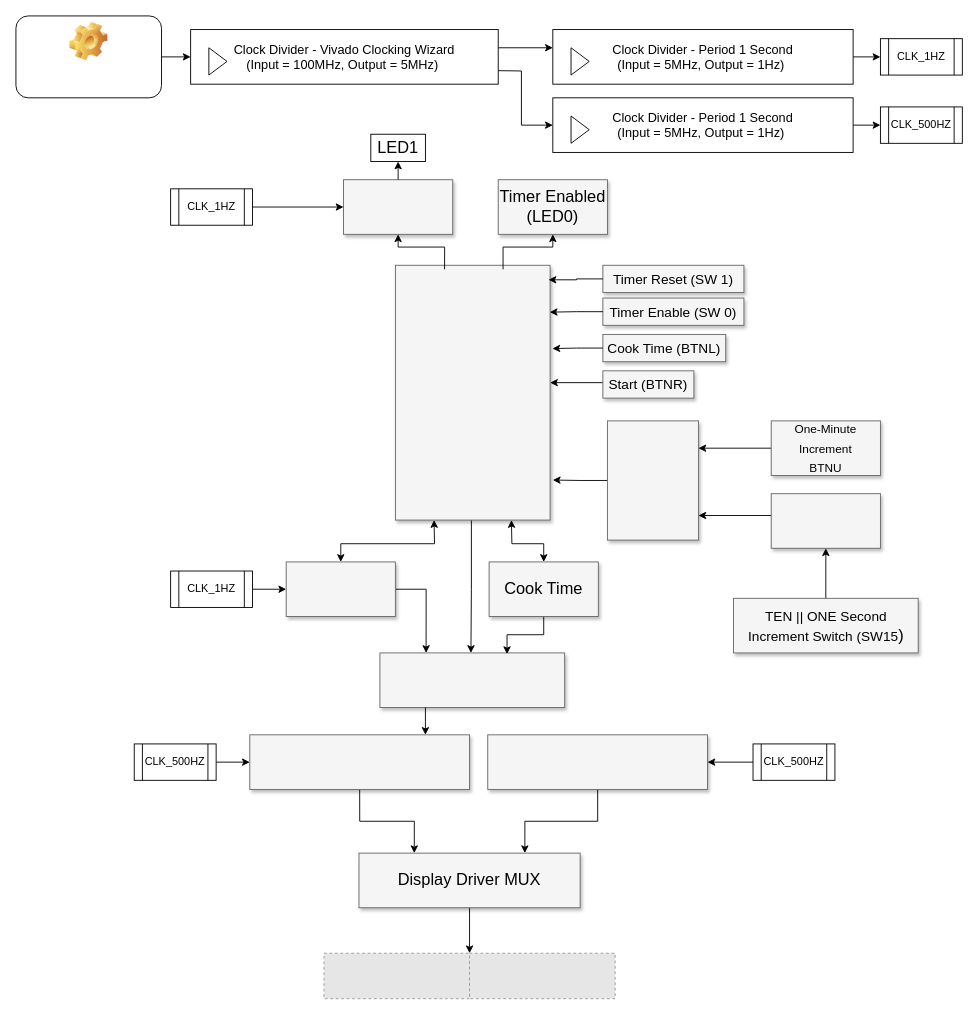
Image size: 978x1015. Some labels were removed from this diagram. Grey dashed boxes stand in for pictures. The centre of each missing label's shape, as x and y in pixels:
"100MHz Clock" belongs at [88,56].
"7-Segment Display Driver" belongs at [360,763].
"7-Segment Value MUX" belongs at [472,681].
"Count Time" belongs at [341,590].
"Debounce" belongs at [653,481].
"Master Controller" belongs at [473,393].
"Second Increment (BTND)" belongs at [826,522].
"Sentence Display Driver" belongs at [598,763].
"Timer On" belongs at [398,208].
